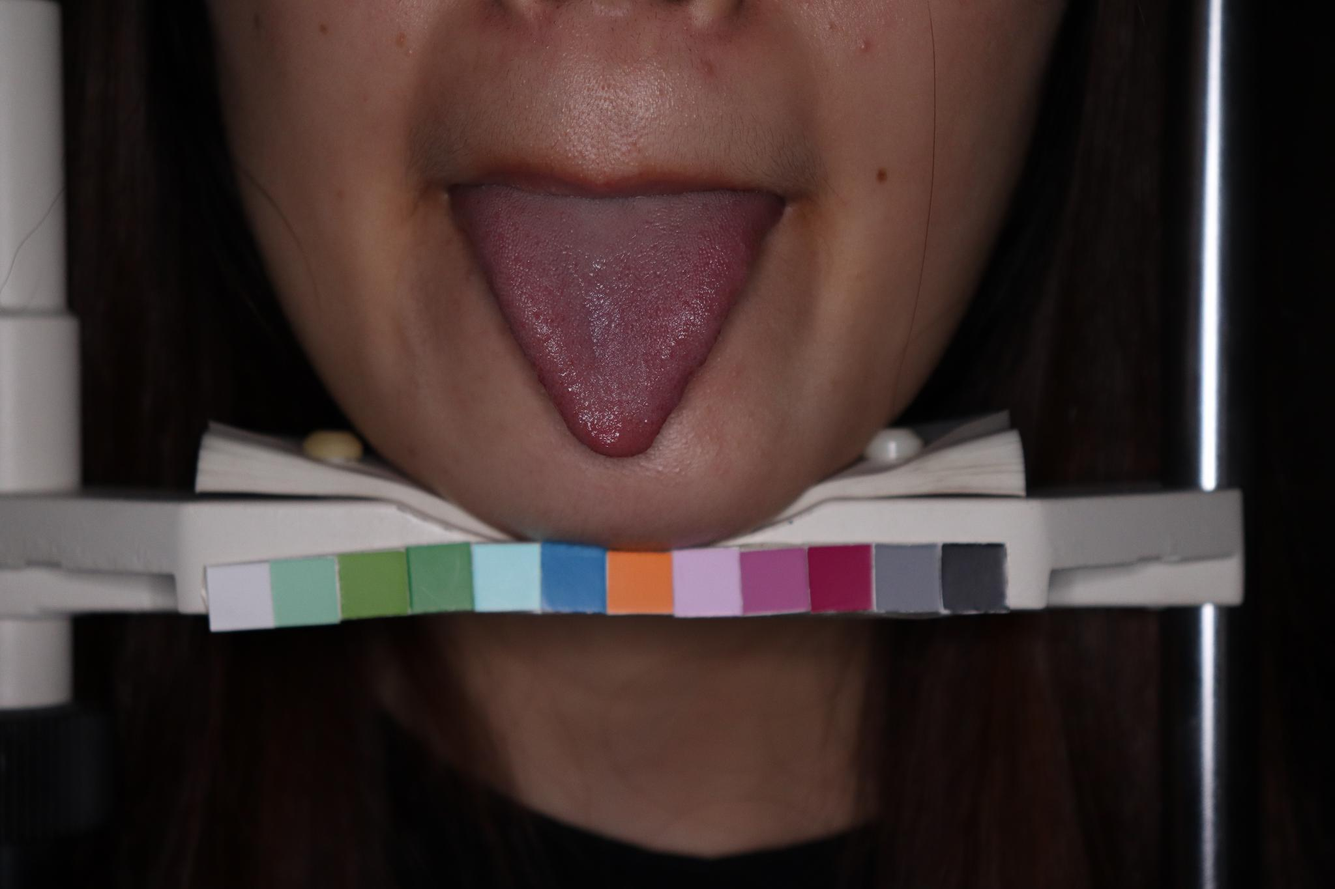baitaishe: (455, 188, 782, 457)
